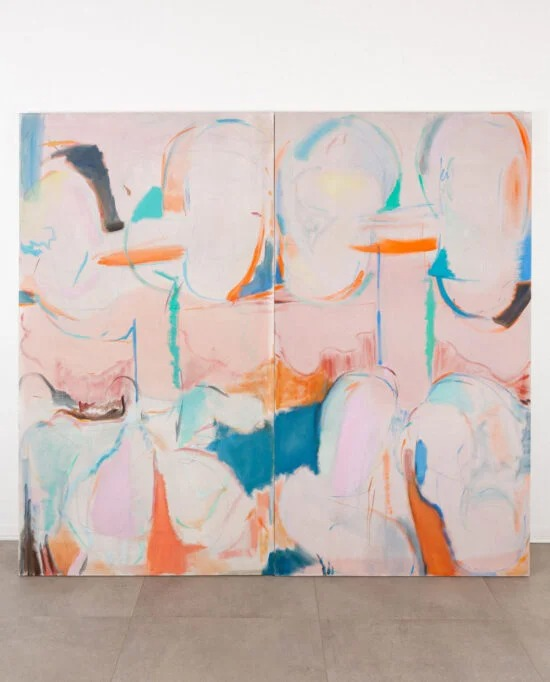painting: (18, 111, 533, 577)
